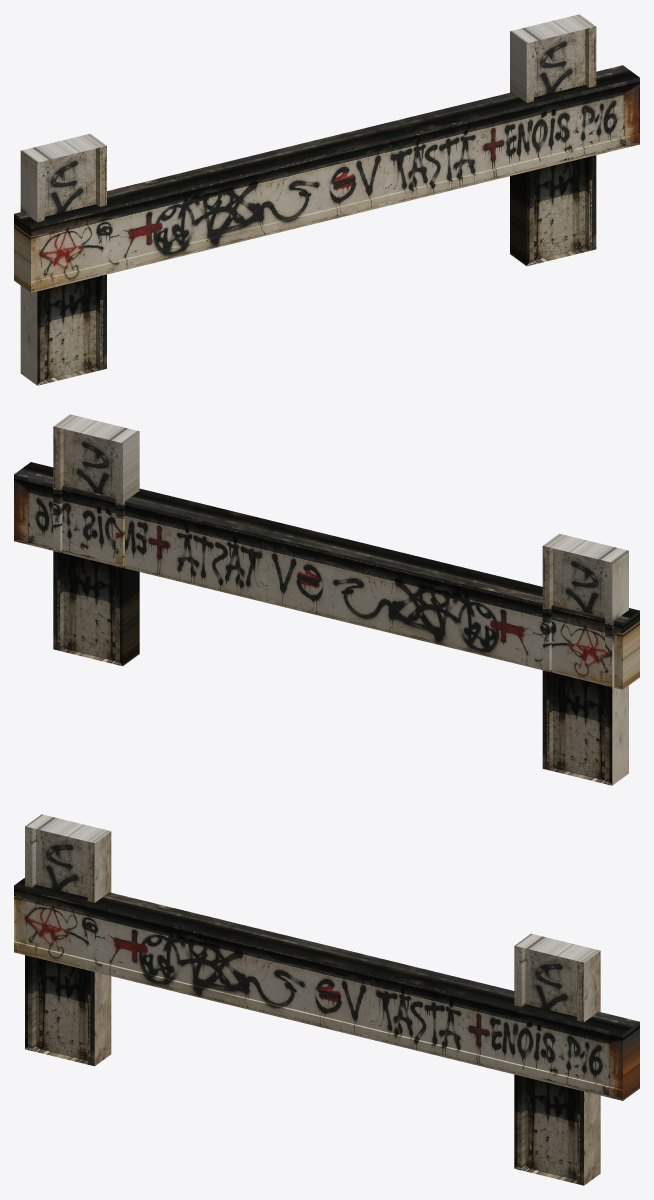
Rendered from barricada.glb.
The picture shows the model from 3 angles, top to bottom: view 1: azimuth 30°, elevation 25°; view 2: azimuth 150°, elevation 25°; view 3: azimuth 330°, elevation 25°; orthographic projection.
Parts seen in each view (by area): view 1: Cube.049; view 2: Cube.049; view 3: Cube.049.
Boxes of the visible parts, <box> form: Cube.049: <box>14,14,639,385</box>; Cube.049: <box>14,414,639,785</box>; Cube.049: <box>14,814,639,1185</box>.
Bounding box in the file's own units: 14.93 × 5.22 × 0.8064.
Materials: 1 (1 with a texture image).
